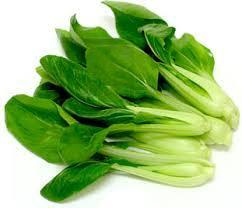Healthy-Pechay: (9, 6, 230, 194)
